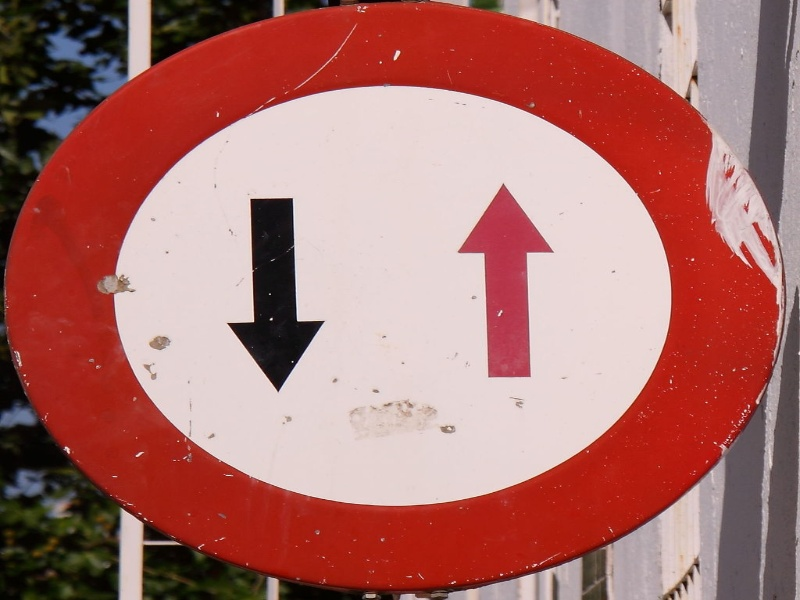straight_direction: (453, 173, 554, 402)
